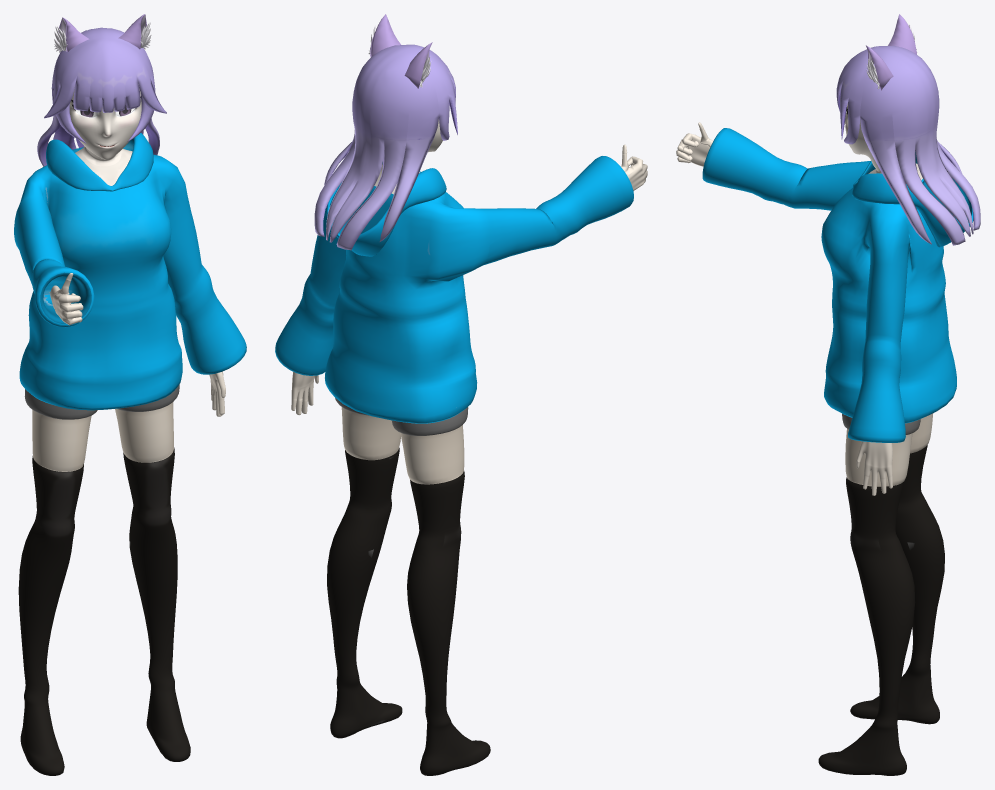
The model's file is clearFox.obj.
The picture shows the model from 3 angles, left to right: view 1: azimuth 30°, elevation 25°; view 2: azimuth 150°, elevation 25°; view 3: azimuth 270°, elevation 25°; orthographic projection. The views are drawn at different scales.
Visible parts, largest first — view 1: 0_body; view 2: 0_body; view 3: 0_body.
Part boxes in pixels (x1,y1,x2,y2): 0_body: (14, 14, 246, 775); 0_body: (275, 14, 647, 775); 0_body: (676, 14, 980, 775).
Bounding box in the file's own units: 1.39 × 3.44 × 1.33.
1 material, 1 textured.
